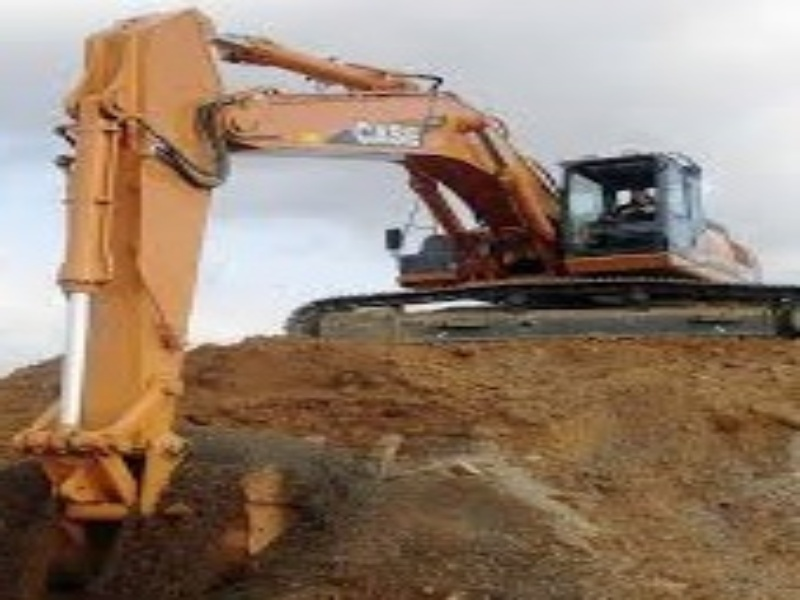wajueji: (312, 60, 800, 380)
